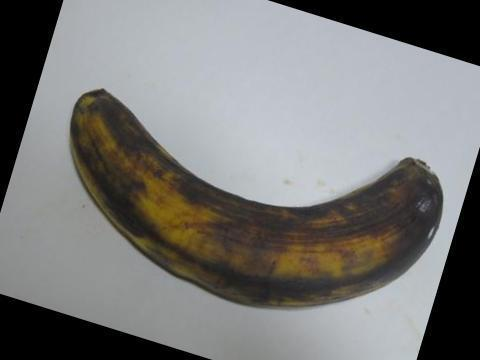overripe: (49, 81, 463, 320)
rotten: (366, 143, 463, 290)
